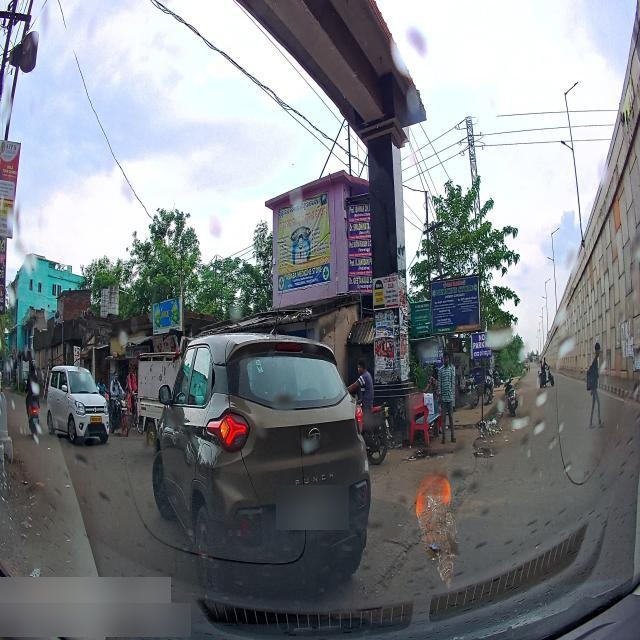pothole: (413, 449, 457, 467), (475, 441, 503, 466)
